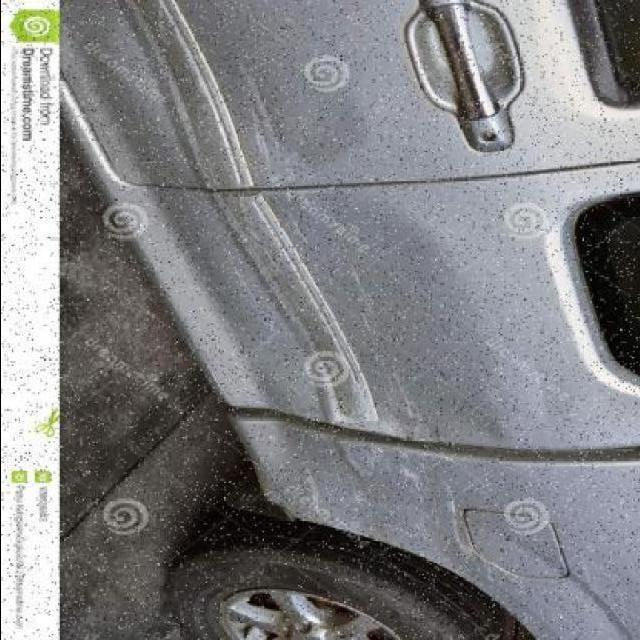doorouter-dent: (121, 186, 572, 429), (107, 0, 598, 183)
quaterpanel-dent: (326, 446, 640, 640)
